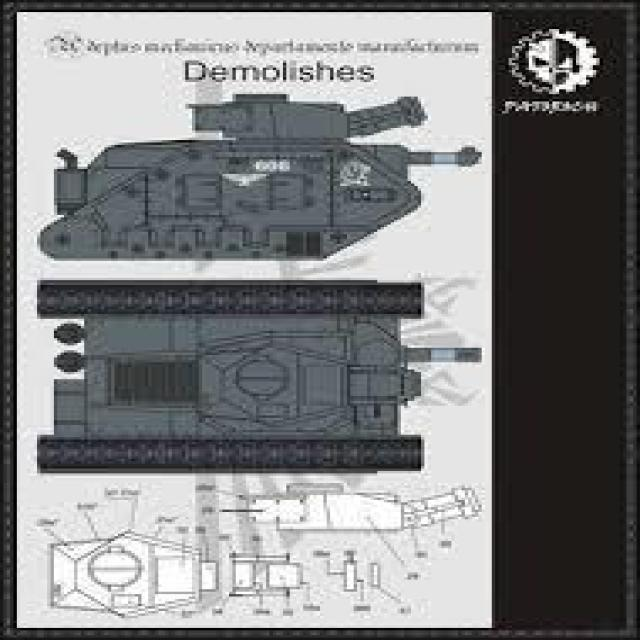Tanks: (34, 273, 438, 471), (42, 81, 426, 252), (36, 518, 218, 617)
